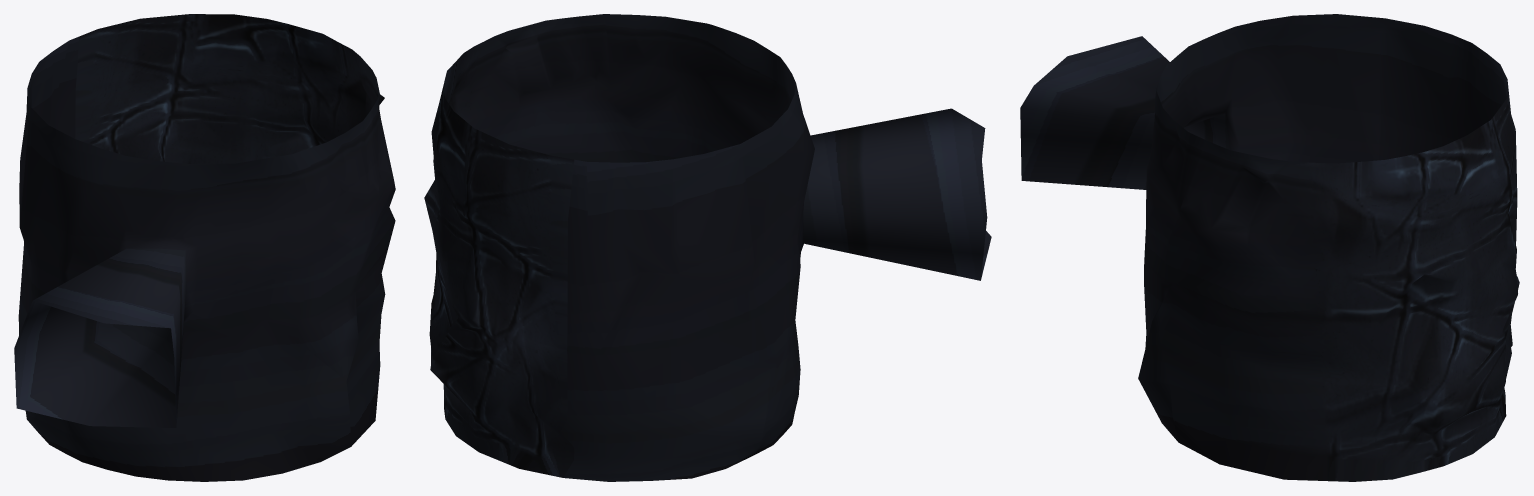
File: TuboEntradaFinal.fbx
3 renders of one model, left to right at view 1: azimuth 30°, elevation 25°; view 2: azimuth 150°, elevation 25°; view 3: azimuth 270°, elevation 25°, orthographic.
Parts seen in each view (by area): view 1: polySurface5; view 2: polySurface5; view 3: polySurface5.
Boxes of the visible parts, <box> form: polySurface5: <box>14,14,395,481</box>; polySurface5: <box>424,14,991,481</box>; polySurface5: <box>1020,14,1519,481</box>.
Bounding box in the file's own units: 284 × 196 × 276.
